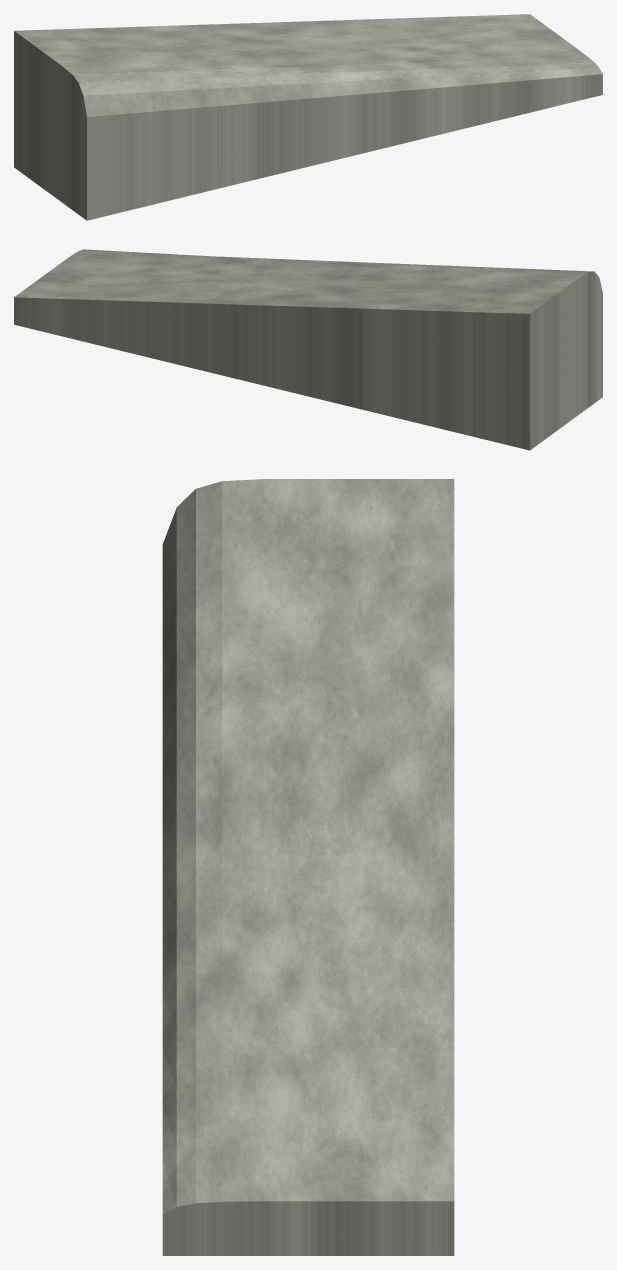
The model's file is PZ_Curb_Transition_1m.glb.
3 views of the same model, one above another, from view 1: azimuth 30°, elevation 25°; view 2: azimuth 150°, elevation 25°; view 3: azimuth 270°, elevation 25° (orthographic). The views are drawn at different scales.
Visible parts, largest first — view 1: PZ_Curb_Transition_1m__Sloped_Curb_Transition; view 2: PZ_Curb_Transition_1m__Sloped_Curb_Transition; view 3: PZ_Curb_Transition_1m__Sloped_Curb_Transition.
Part boxes in pixels (x1,y1,x2,y2): PZ_Curb_Transition_1m__Sloped_Curb_Transition: (14,14,602,220); PZ_Curb_Transition_1m__Sloped_Curb_Transition: (14,249,602,450); PZ_Curb_Transition_1m__Sloped_Curb_Transition: (162,479,454,1255).
Size of the model in its own units: 1 by 0.253 by 0.245.
Materials: 1 (1 with a texture image).
